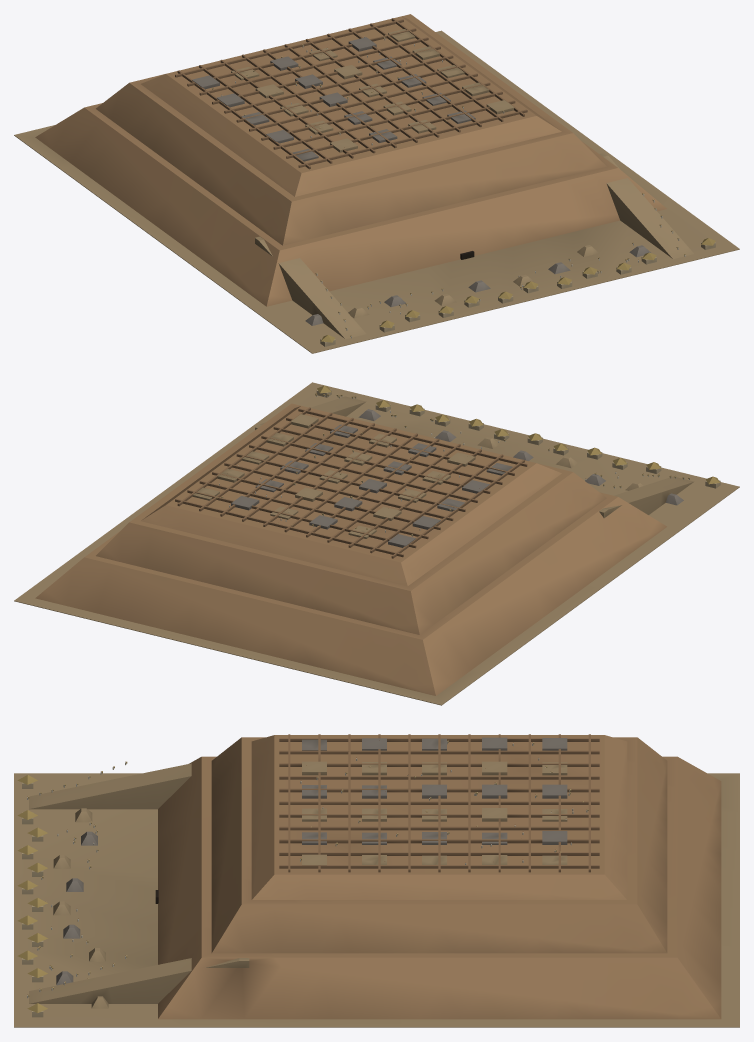
File: pyramid-of-the-sun-100.glb
3 renders of one model, top to bottom at view 1: azimuth 30°, elevation 25°; view 2: azimuth 150°, elevation 25°; view 3: azimuth 270°, elevation 25°, orthographic. The views are drawn at different scales.
Parts seen in each view (by area): view 1: p1_core, p0_ground, p2_workers; view 2: p1_core, p0_ground, p2_workers; view 3: p1_core, p0_ground, p2_workers.
Boxes of the visible parts, left/top/right/bottom form: p1_core: left=35, top=14, right=693, bottom=338; p0_ground: left=14, top=30, right=739, bottom=353; p2_workers: left=212, top=35, right=715, bottom=346; p1_core: left=35, top=396, right=693, bottom=695; p0_ground: left=14, top=382, right=739, bottom=705; p2_workers: left=216, top=385, right=720, bottom=536; p1_core: left=29, top=734, right=721, bottom=1019; p0_ground: left=14, top=773, right=739, bottom=1027; p2_workers: left=17, top=740, right=588, bottom=1017.
Size of the model in its own units: 240 by 43.87 by 290.
